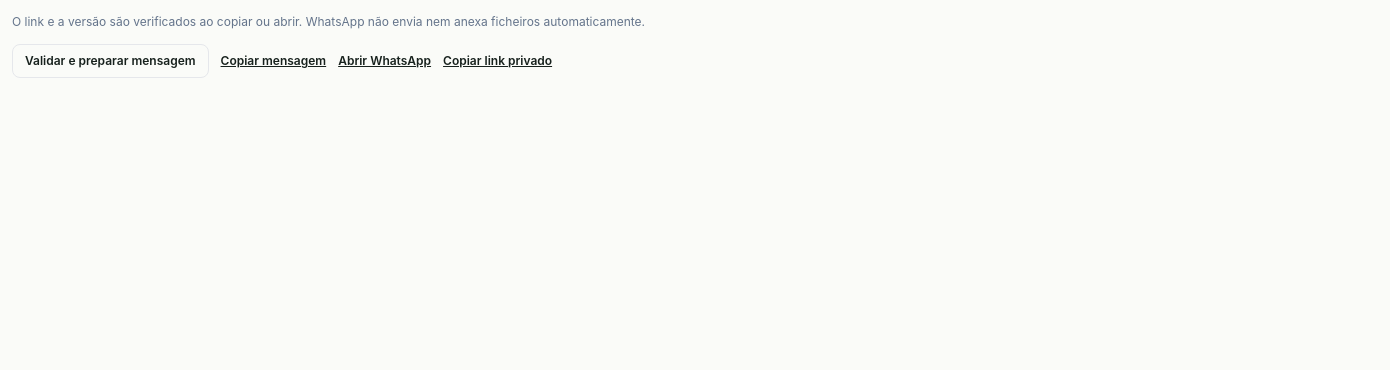
Test: Validated review sharing › requires explicit confirmation before renewing artwork
Click the button "Validar e preparar mensagem": click(110, 61) [12,44,209,78]
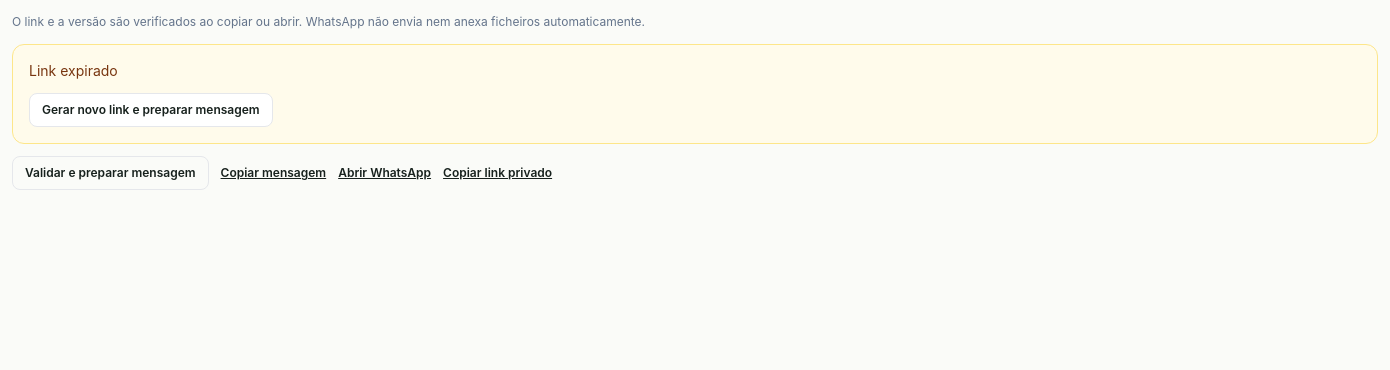
Click the button "Gerar novo link e preparar mensagem": click(151, 110) [29,93,273,127]
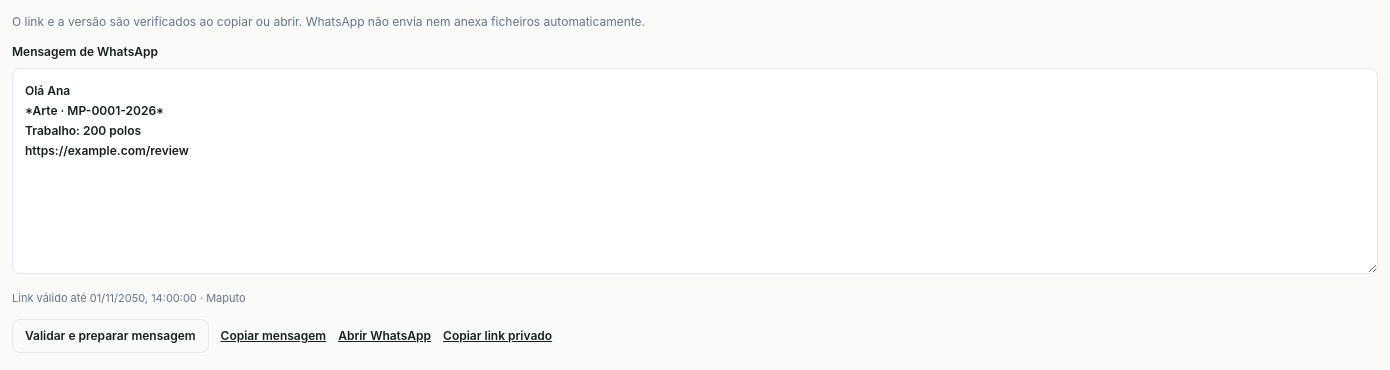
expect the text box labelled "Mensagem de WhatsApp" is shown: met, box [12,68,1378,274]
